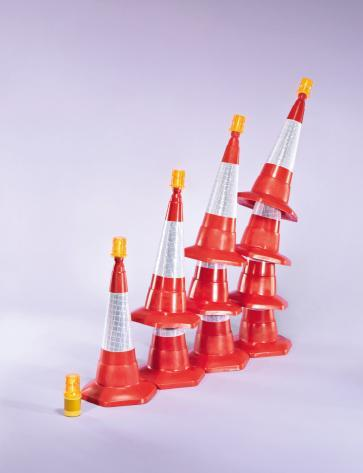Cone: (84, 239, 154, 405), (244, 77, 314, 224), (183, 115, 246, 273), (141, 169, 197, 331)
